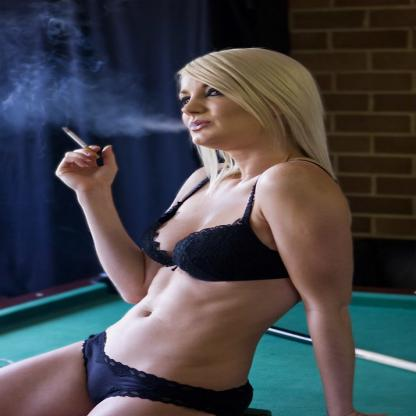smoking: (62, 127, 100, 159)
